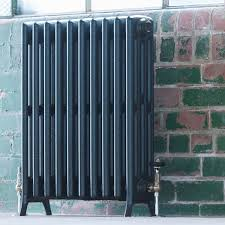Radiator: (18, 14, 164, 218)
